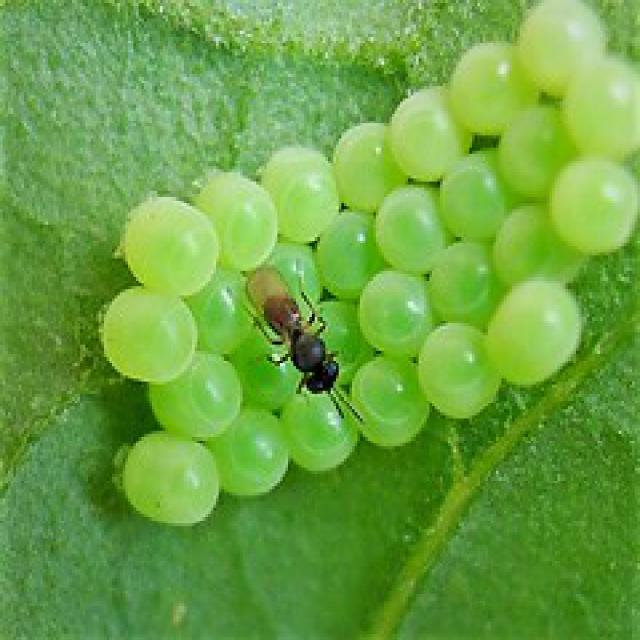Guepe: (227, 250, 376, 438)
